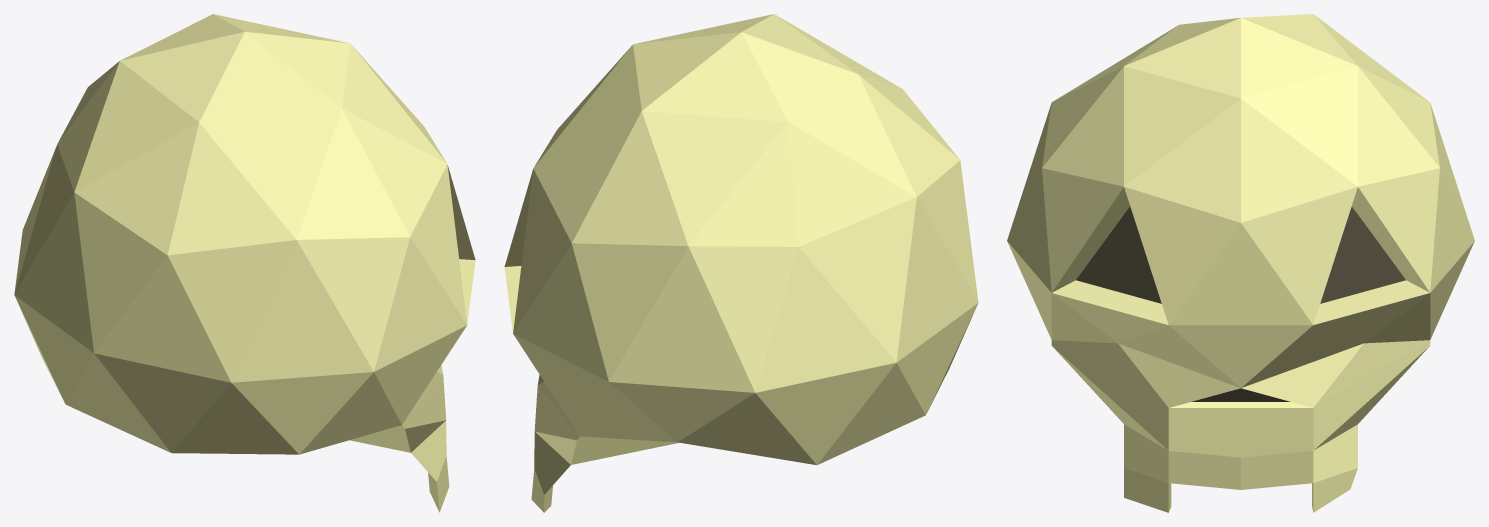
Rendered from SkeletonHead.fbx.
3 renders of one model, left to right at view 1: azimuth 30°, elevation 25°; view 2: azimuth 150°, elevation 25°; view 3: azimuth 270°, elevation 25°, orthographic. The views are drawn at different scales.
Parts seen in each view (by area): view 1: Icosphere; view 2: Icosphere; view 3: Icosphere.
Boxes of the visible parts, x1,y1,x2,y2 form: Icosphere: [14, 14, 475, 512]; Icosphere: [504, 14, 978, 512]; Icosphere: [1007, 14, 1474, 512].
Size of the model in its own units: 159 by 186 by 186.
